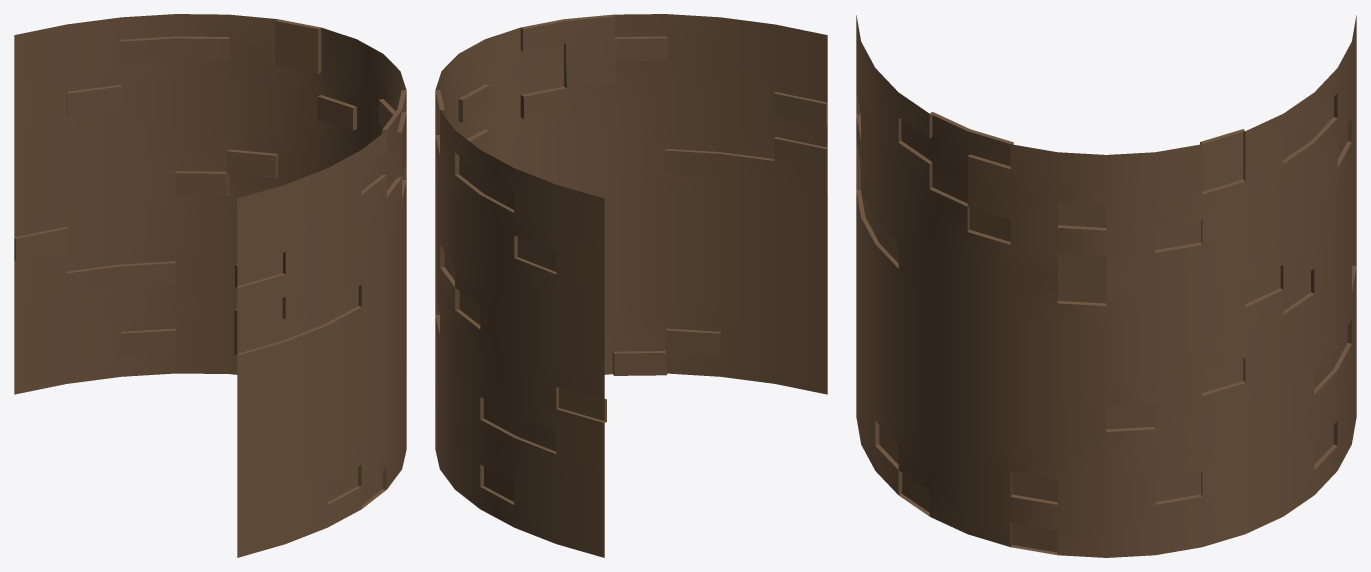
The model's file is Corridor_Wall_End.fbx.
3 views of the same model, side by side, from view 1: azimuth 30°, elevation 25°; view 2: azimuth 150°, elevation 25°; view 3: azimuth 270°, elevation 25° (orthographic). The views are drawn at different scales.
Parts seen in each view (by area): view 1: Corridor_Wall_End; view 2: Corridor_Wall_End; view 3: Corridor_Wall_End.
Part boxes in pixels (x1,y1,x2,y2): Corridor_Wall_End: [14, 14, 406, 557]; Corridor_Wall_End: [435, 14, 827, 557]; Corridor_Wall_End: [856, 15, 1356, 557].
Size of the model in its own units: 187 by 248 by 279.
